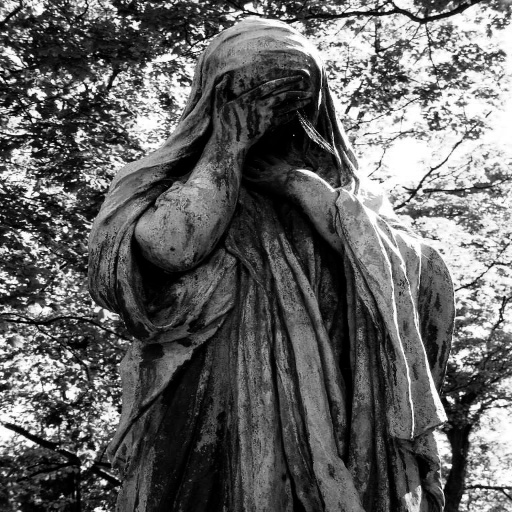hand: (217, 70, 300, 145), (242, 156, 304, 185)
